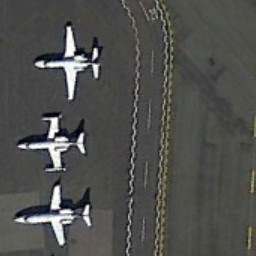Airplane: (27, 17, 111, 103), (6, 180, 100, 251), (4, 106, 92, 176)
